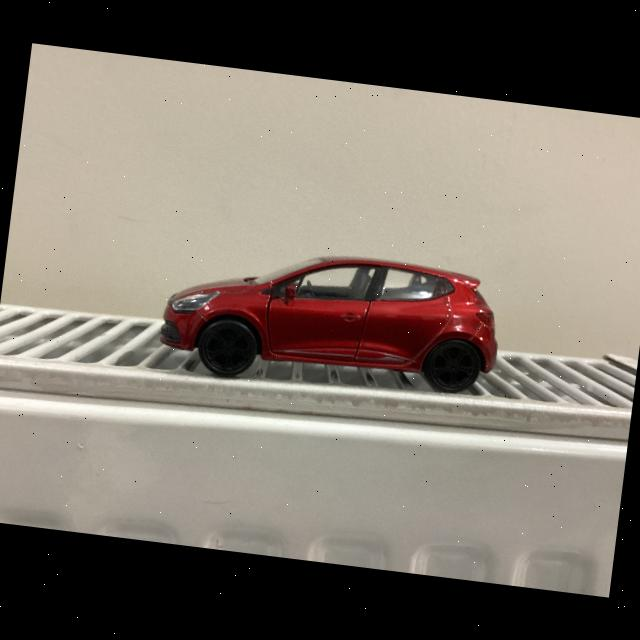Dogru_Jant: (202, 324, 252, 372), (428, 343, 475, 390)
